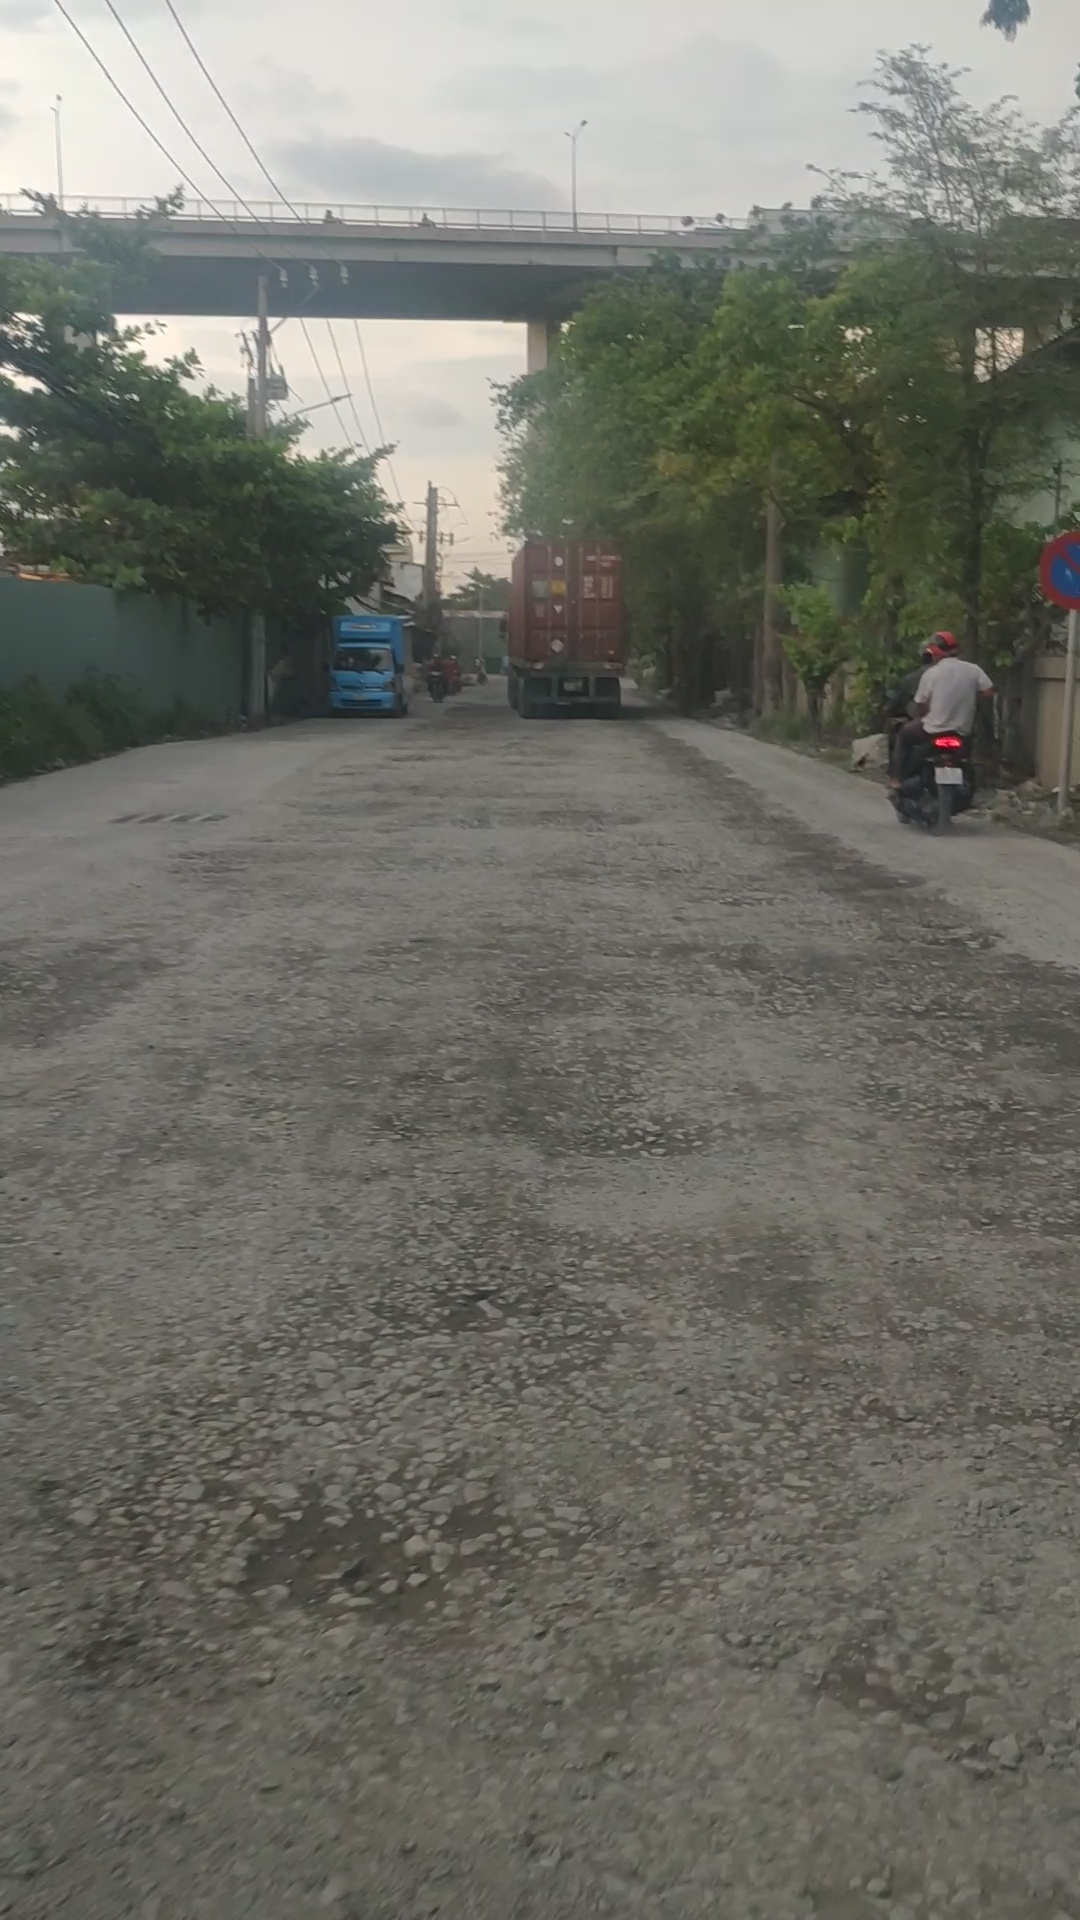hole: (196, 1468, 512, 1630), (357, 1261, 579, 1354), (781, 965, 1072, 1027), (505, 1106, 729, 1171), (444, 804, 651, 833), (887, 907, 1010, 951), (357, 1101, 469, 1149), (481, 756, 584, 770), (376, 752, 464, 764), (402, 934, 440, 945)
